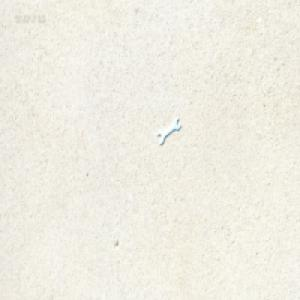Wrench: (156, 116, 178, 144)
